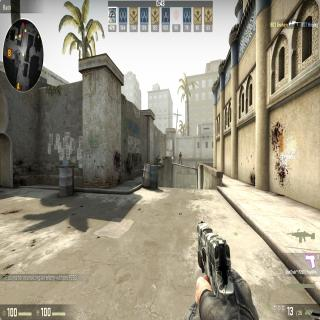CT-Body: (156, 154, 160, 166)
CT-Head: (158, 154, 159, 158)
T-Body: (178, 151, 182, 164)
T-Head: (180, 152, 181, 154)
